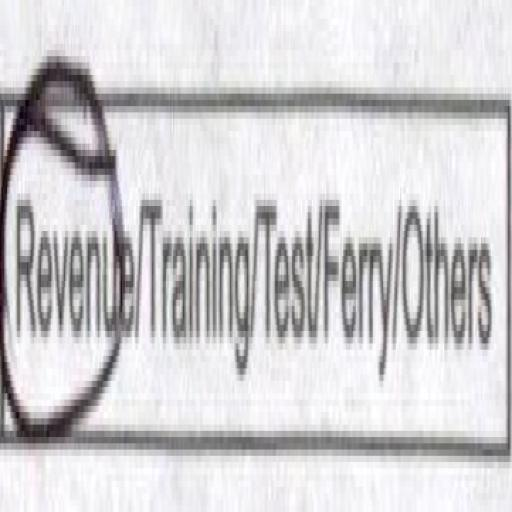check: (0, 24, 135, 448)
